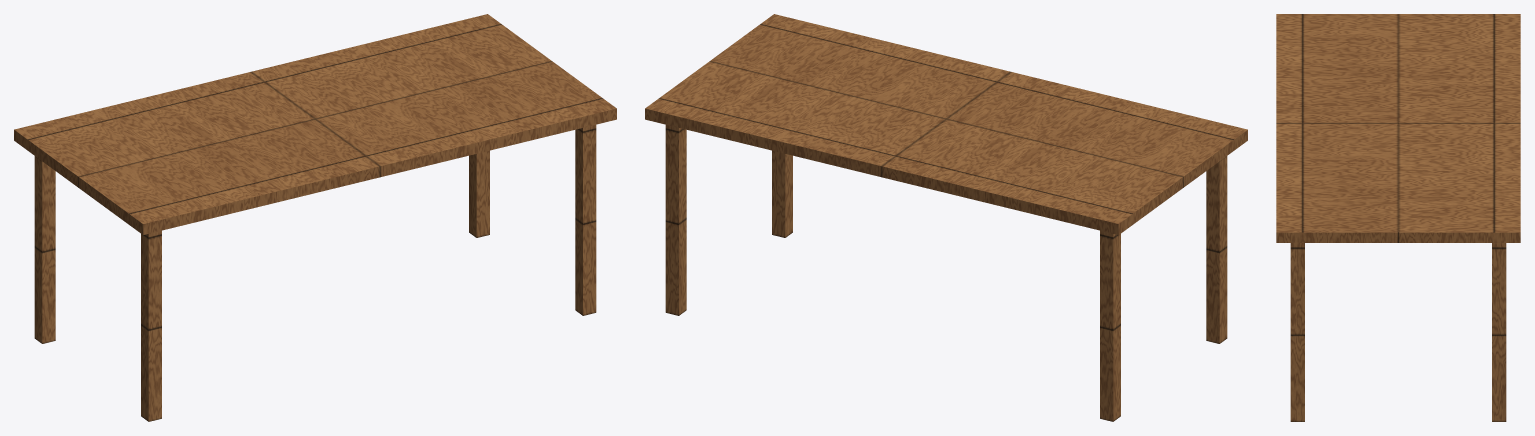
The model's file is Etkezoasztal_180.obj.
The picture shows the model from 3 angles, left to right: view 1: azimuth 30°, elevation 25°; view 2: azimuth 150°, elevation 25°; view 3: azimuth 270°, elevation 25°; orthographic projection. The views are drawn at different scales.
Bounding box in the file's own units: 1.8 × 0.75 × 0.85.
1 material, 1 textured.
